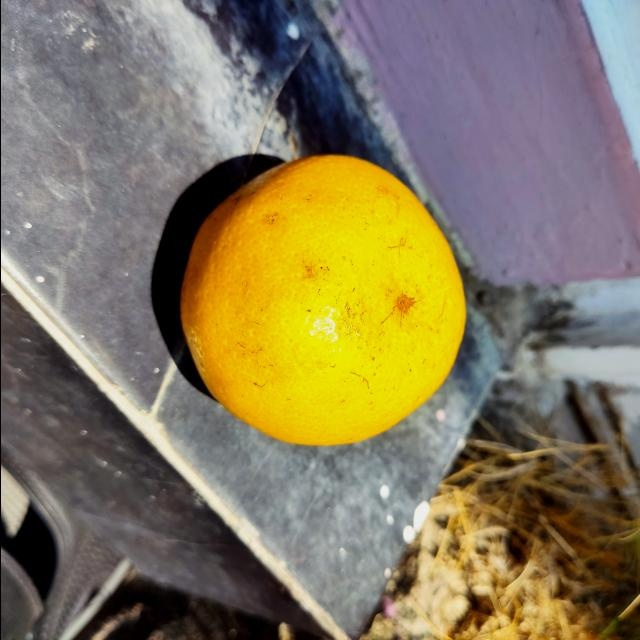agrume: (176, 156, 468, 450)
